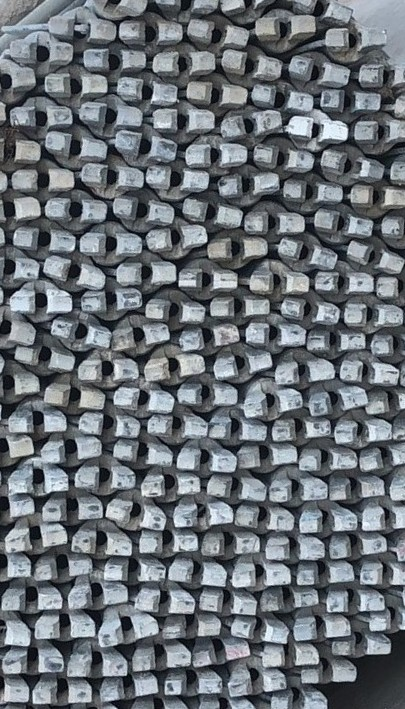NHsquare_steel: (41, 255, 108, 291), (320, 148, 383, 186), (101, 498, 168, 532), (79, 159, 145, 193), (178, 198, 246, 231), (8, 285, 76, 318), (114, 129, 178, 164), (286, 53, 351, 87), (145, 162, 213, 194), (308, 208, 376, 240), (253, 142, 316, 176), (51, 315, 112, 350), (346, 239, 405, 275), (9, 224, 77, 255), (29, 676, 94, 708), (12, 343, 79, 374), (279, 237, 340, 271), (222, 48, 284, 81), (111, 197, 177, 228), (33, 613, 99, 644), (79, 229, 147, 259), (206, 474, 269, 506), (165, 557, 228, 589), (43, 131, 108, 162), (146, 223, 211, 254), (111, 321, 171, 354), (50, 15, 118, 44), (1, 527, 69, 556), (68, 530, 136, 559), (143, 294, 206, 325), (146, 412, 209, 443), (227, 615, 290, 646), (45, 195, 110, 225), (206, 235, 271, 265), (5, 467, 72, 496), (205, 413, 267, 444), (186, 19, 250, 49), (286, 115, 350, 145), (113, 384, 177, 414), (79, 410, 143, 440), (184, 80, 250, 109), (109, 439, 175, 468), (239, 209, 307, 237), (71, 464, 139, 492), (178, 264, 239, 295), (104, 556, 167, 586), (170, 503, 237, 531), (304, 326, 366, 356), (98, 615, 160, 645), (178, 323, 242, 352), (144, 353, 208, 382), (43, 381, 107, 410), (232, 505, 296, 534), (133, 589, 199, 617), (269, 476, 330, 506), (1, 585, 62, 615), (338, 357, 397, 388), (250, 84, 313, 113), (313, 269, 376, 298), (280, 296, 343, 325), (272, 415, 335, 444), (177, 446, 240, 475), (262, 535, 325, 564), (41, 70, 111, 96), (280, 178, 345, 206), (214, 170, 279, 198), (76, 356, 141, 384), (214, 351, 274, 381), (200, 588, 260, 618), (331, 632, 391, 662), (275, 359, 339, 387), (32, 554, 96, 582), (8, 37, 74, 64), (326, 474, 387, 503), (77, 101, 145, 127), (133, 531, 201, 557), (6, 410, 71, 437), (229, 564, 294, 591), (232, 443, 299, 469), (228, 670, 286, 700), (246, 322, 308, 350), (114, 259, 178, 286), (208, 293, 272, 320), (296, 510, 360, 537), (199, 532, 263, 559), (160, 672, 224, 699), (10, 168, 79, 193), (37, 439, 106, 464), (82, 47, 148, 73), (218, 113, 284, 139), (325, 586, 384, 615), (294, 562, 355, 590), (1, 649, 62, 677), (116, 79, 179, 106), (67, 654, 130, 681), (175, 381, 240, 407), (347, 183, 405, 212), (307, 387, 367, 415), (334, 418, 394, 446), (127, 649, 194, 674), (343, 301, 405, 328), (152, 50, 216, 76), (184, 143, 248, 169), (247, 270, 311, 296), (41, 497, 105, 523), (243, 391, 304, 418), (96, 677, 157, 704), (65, 585, 129, 610), (152, 108, 215, 133), (140, 474, 203, 499), (161, 618, 224, 643), (298, 449, 360, 474), (189, 642, 251, 667), (119, 20, 183, 44), (11, 106, 75, 130), (80, 291, 144, 315), (292, 618, 356, 642), (260, 588, 318, 614), (301, 663, 361, 688), (327, 535, 386, 560), (294, 1, 355, 25), (254, 15, 316, 38), (260, 645, 321, 668), (319, 89, 379, 112), (359, 560, 405, 589), (325, 28, 388, 49), (1, 136, 43, 167), (353, 120, 405, 145), (357, 445, 405, 472), (361, 504, 405, 533), (362, 389, 405, 417), (357, 63, 405, 88), (154, 1, 219, 19), (1, 198, 42, 225), (1, 315, 37, 345), (1, 369, 43, 394), (1, 433, 37, 462), (1, 68, 38, 96), (1, 619, 35, 649), (1, 253, 40, 279), (268, 693, 329, 709), (90, 1, 150, 17), (221, 1, 277, 18), (371, 332, 405, 359), (1, 678, 31, 706), (1, 555, 33, 581), (1, 496, 33, 520), (378, 276, 405, 302)
